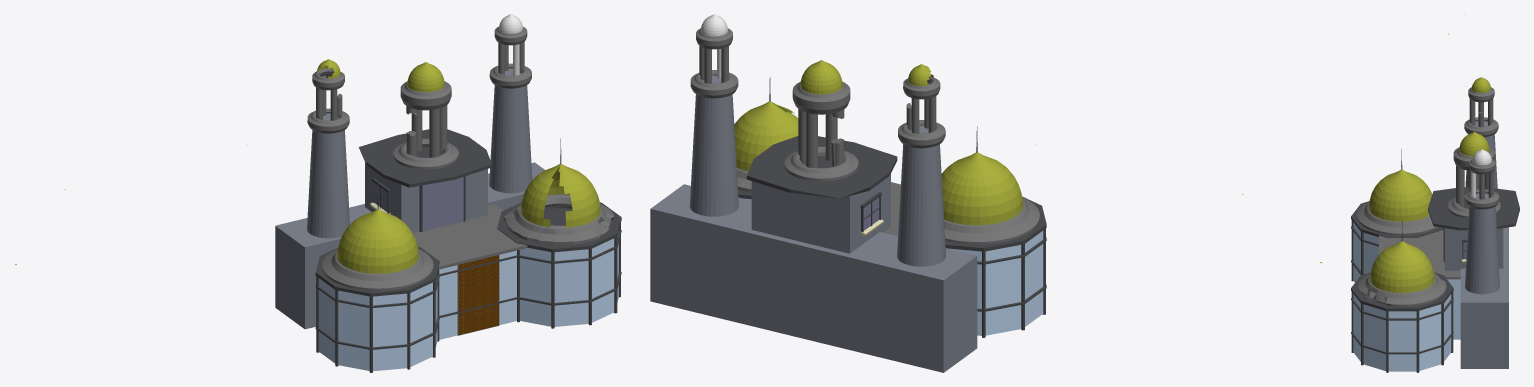
Rendered from TestLevelModel.fbx.
3 renders of one model, left to right at view 1: azimuth 30°, elevation 25°; view 2: azimuth 150°, elevation 25°; view 3: azimuth 270°, elevation 25°, orthographic. The views are drawn at different scales.
Visible parts, largest first — view 1: Cylinder.090, Cylinder.104, Cube.403, Cylinder.004, Cylinder.128, Sphere, Cylinder.120, Cube.3831, Sphere.001, Cube.402, Torus.002, Torus.001 (+10 smaller); view 2: Cube.403, Cube.402, Cylinder.004, Cylinder.128, Cylinder.090, Sphere, Cylinder.120, Sphere.001, Torus.001, Torus.004, Torus.003, Sphere.021 (+5 smaller); view 3: Cylinder.104, Cube.403, Cylinder.004, Sphere.001, Sphere, Cylinder.120, Torus.002, Cylinder.090, Cube.3831, Torus.001, Cube.402, Cylinder.117 (+24 smaller).
Boxes of the visible parts, x1,y1,x2,y2 form: Cylinder.090: (319, 250, 516, 371); Cylinder.104: (520, 231, 618, 326); Cube.403: (275, 162, 544, 329); Cylinder.004: (489, 68, 532, 193); Cylinder.128: (307, 113, 349, 238); Sphere: (337, 209, 418, 273); Cylinder.120: (358, 129, 491, 187); Cube.3831: (413, 204, 527, 269); Sphere.001: (521, 164, 600, 227); Cube.402: (365, 162, 487, 233); Torus.002: (503, 194, 614, 244); Torus.001: (322, 249, 433, 290); Cube.403: (650, 184, 977, 372); Cube.402: (751, 173, 890, 253); Cylinder.004: (689, 76, 738, 216); Cylinder.128: (897, 126, 945, 266); Cylinder.090: (949, 231, 1043, 335); Sphere: (941, 152, 1022, 225); Cylinder.120: (746, 136, 897, 198); Sphere.001: (734, 101, 798, 171); Torus.001: (944, 197, 1039, 244); Torus.004: (784, 146, 858, 181); Torus.003: (792, 81, 850, 114); Sphere.021: (800, 60, 1322, 263); Cylinder.104: (1353, 294, 1451, 371); Cube.403: (1460, 227, 1508, 368); Cylinder.004: (1465, 193, 1499, 294); Sphere.001: (1370, 241, 1434, 292); Sphere: (1368, 169, 1432, 221); Cylinder.120: (1428, 187, 1519, 230); Torus.002: (1358, 273, 1446, 306); Cylinder.090: (1353, 222, 1460, 339); Cube.3831: (1379, 230, 1460, 279); Torus.001: (1357, 202, 1438, 235); Cube.402: (1444, 228, 1503, 270); Cylinder.117: (1351, 272, 1453, 311).
Size of the model in its own units: 64532 by 27366 by 20552.
